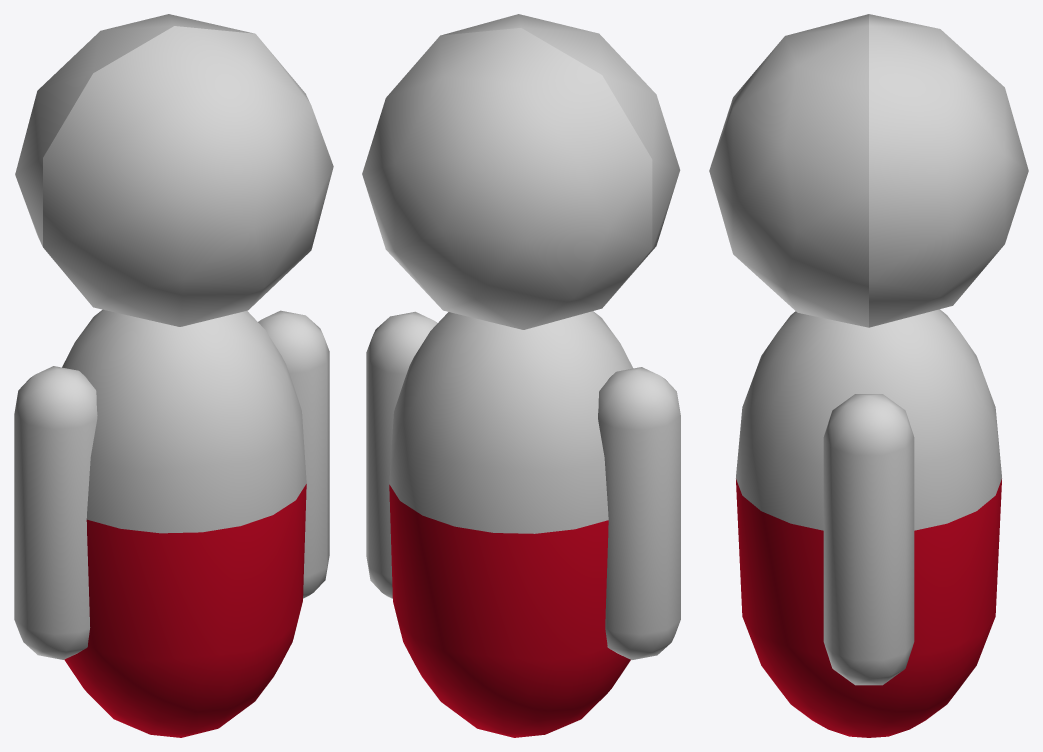
Rendered from Perso.fbx.
3 views of the same model, side by side, from view 1: azimuth 30°, elevation 25°; view 2: azimuth 150°, elevation 25°; view 3: azimuth 270°, elevation 25° (orthographic).
Visible parts, largest first — view 1: Corps, Tete, BrasDroit, BrasGauche; view 2: Corps, Tete, BrasDroit, BrasGauche; view 3: Tete, Corps, BrasGauche.
Boxes of the visible parts, left/top/right/bottom form: Corps: left=62, top=309, right=306, bottom=737; Tete: left=15, top=14, right=333, bottom=326; BrasDroit: left=14, top=366, right=97, bottom=659; BrasGauche: left=258, top=310, right=329, bottom=598; Corps: left=389, top=311, right=633, bottom=737; Tete: left=362, top=14, right=680, bottom=329; BrasDroit: left=598, top=367, right=680, bottom=659; BrasGauche: left=366, top=311, right=437, bottom=598; Tete: left=709, top=14, right=1028, bottom=327; Corps: left=736, top=309, right=1001, bottom=737; BrasGauche: left=823, top=394, right=914, bottom=685.
Size of the model in its own units: 1.05 by 2.33 by 0.96.
